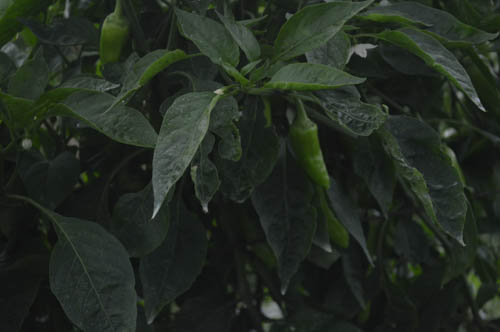ChiliPepper: (291, 121, 335, 190), (89, 13, 133, 70)
